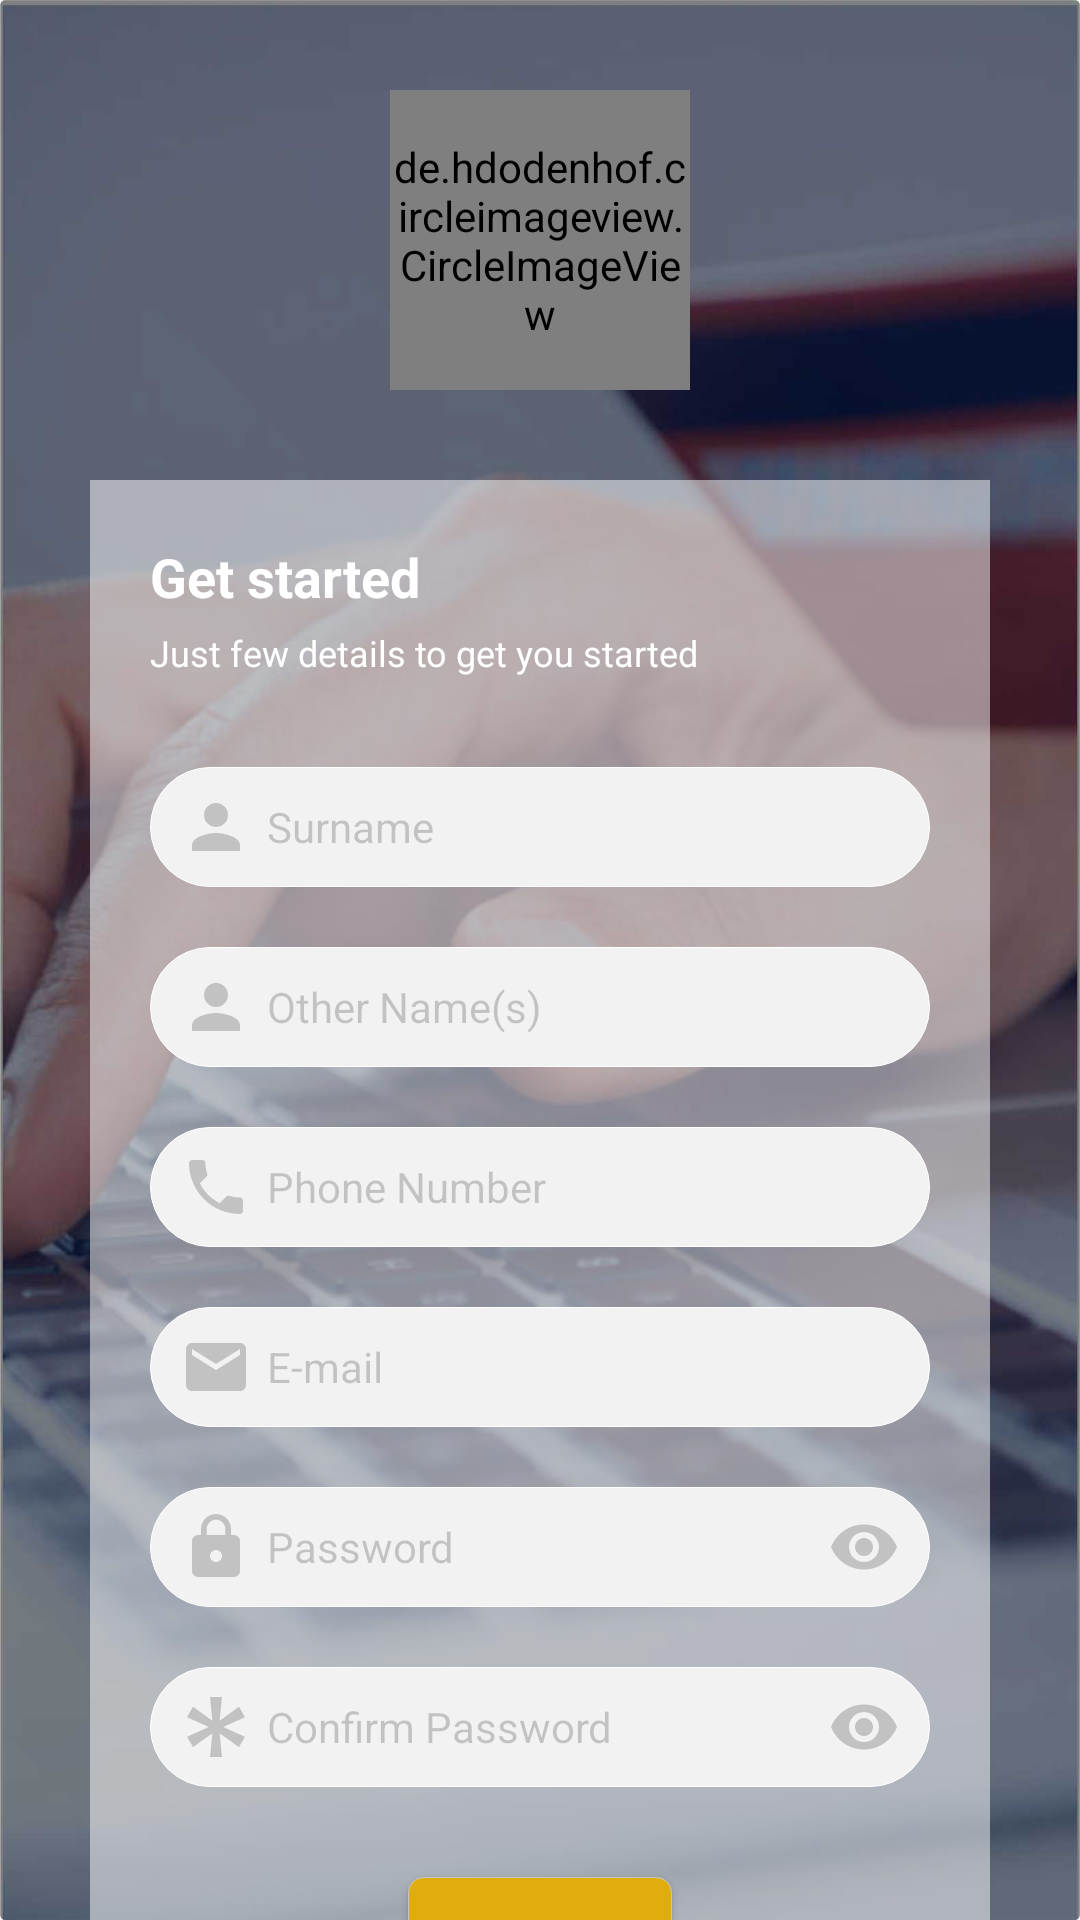

Locate icon controls on the screen. Image size 1080 x 1920, boxes as (x1, y1, x2, y2).
visibility: (831, 1525, 897, 1569), (831, 1705, 897, 1749)
